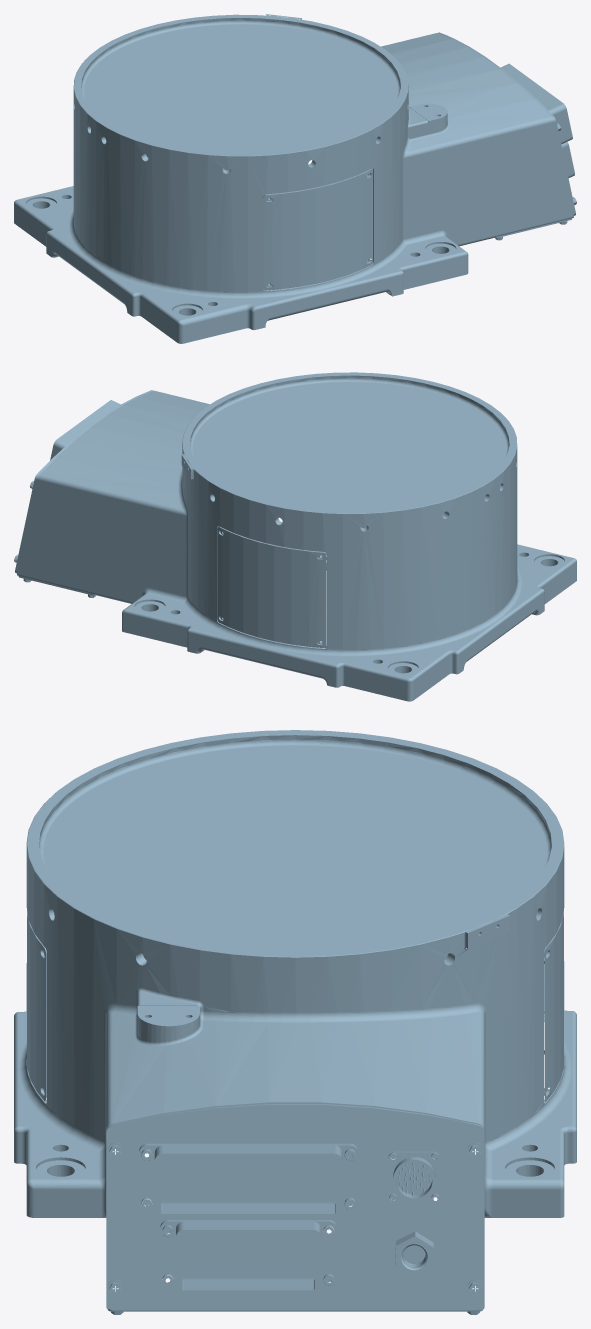
The model's file is case-02_lib00006.glb.
3 views of the same model, one above another, from view 1: azimuth 30°, elevation 25°; view 2: azimuth 150°, elevation 25°; view 3: azimuth 270°, elevation 25° (orthographic). The views are drawn at different scales.
Visible parts, largest first — view 1: lib00006; view 2: lib00006; view 3: lib00006.
Boxes of the visible parts, x1,y1,x2,y2 form: lib00006: [14, 14, 576, 343]; lib00006: [14, 372, 576, 701]; lib00006: [14, 730, 576, 1314].
Bounding box in the file's own units: 78 × 26.95 × 52.73.
